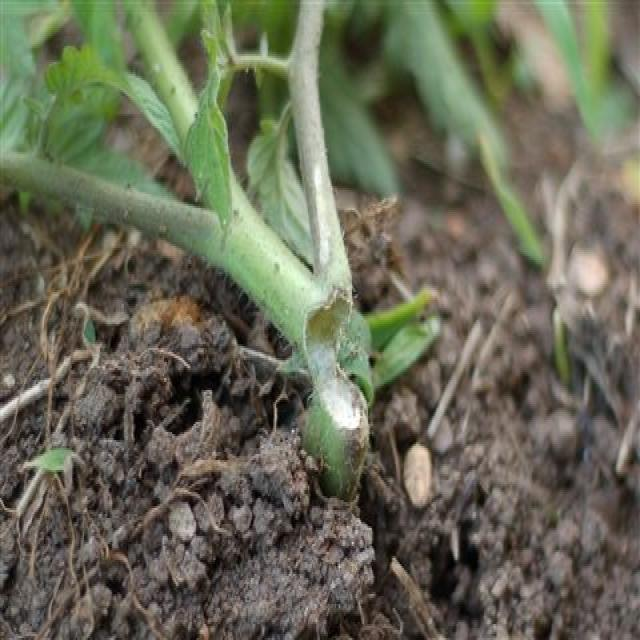Cutworm: (346, 194, 398, 322)
